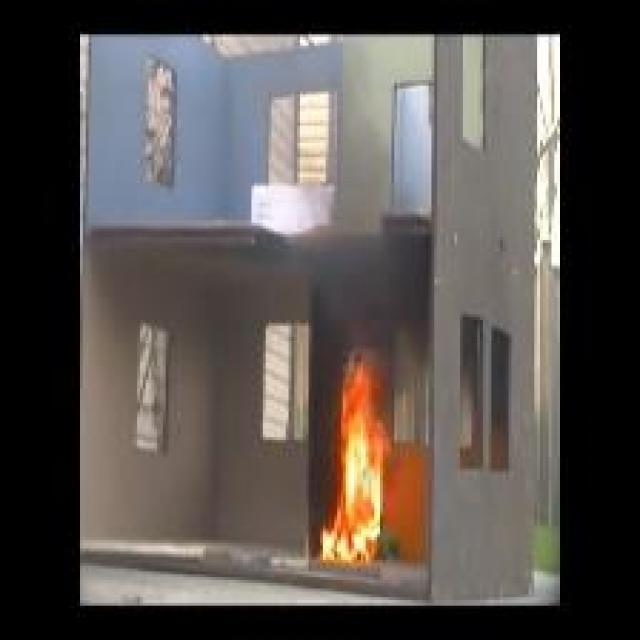Fire: (322, 351, 389, 563)
